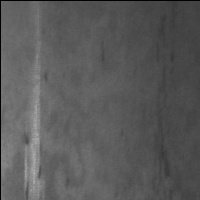scratches: (23, 50, 47, 200)
